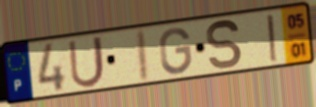4: (35, 41, 69, 94)
G: (158, 26, 193, 77)
I: (137, 27, 152, 85), (265, 13, 281, 64)
S: (204, 18, 244, 71)
U: (66, 34, 107, 90)
